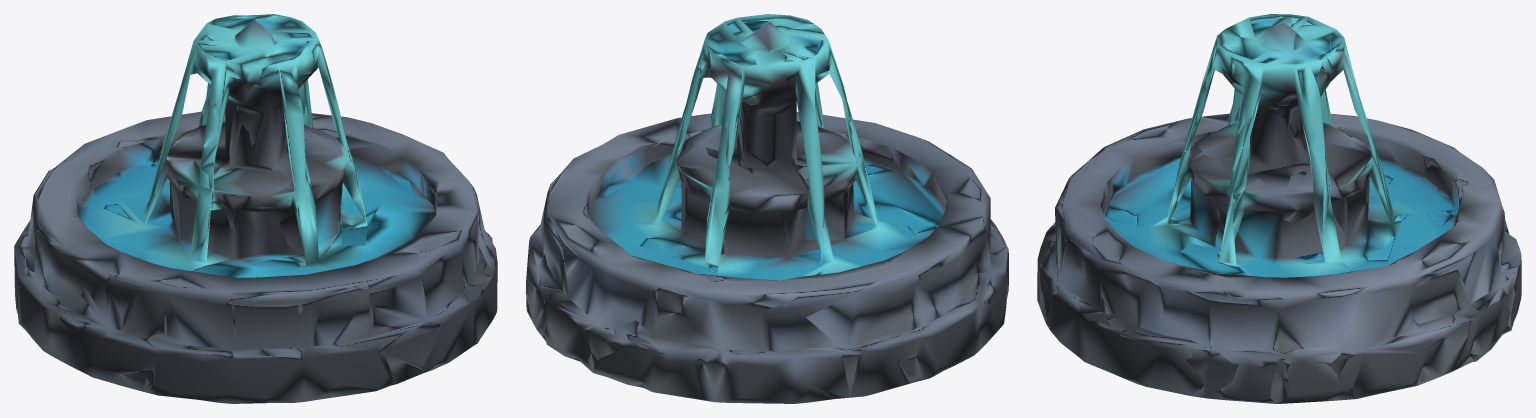
The model's file is gen3d-fountain-lod0.glb.
3 renders of one model, left to right at view 1: azimuth 30°, elevation 25°; view 2: azimuth 150°, elevation 25°; view 3: azimuth 270°, elevation 25°, orthographic.
Visible parts, largest first — view 1: part_0; view 2: part_0; view 3: part_0.
Part boxes in pixels (x1,y1,x2,y2): part_0: (14,14,497,403); part_0: (526,14,1008,403); part_0: (1037,14,1521,403).
Bounding box in the file's own units: 1.56 × 0.996 × 1.56.
